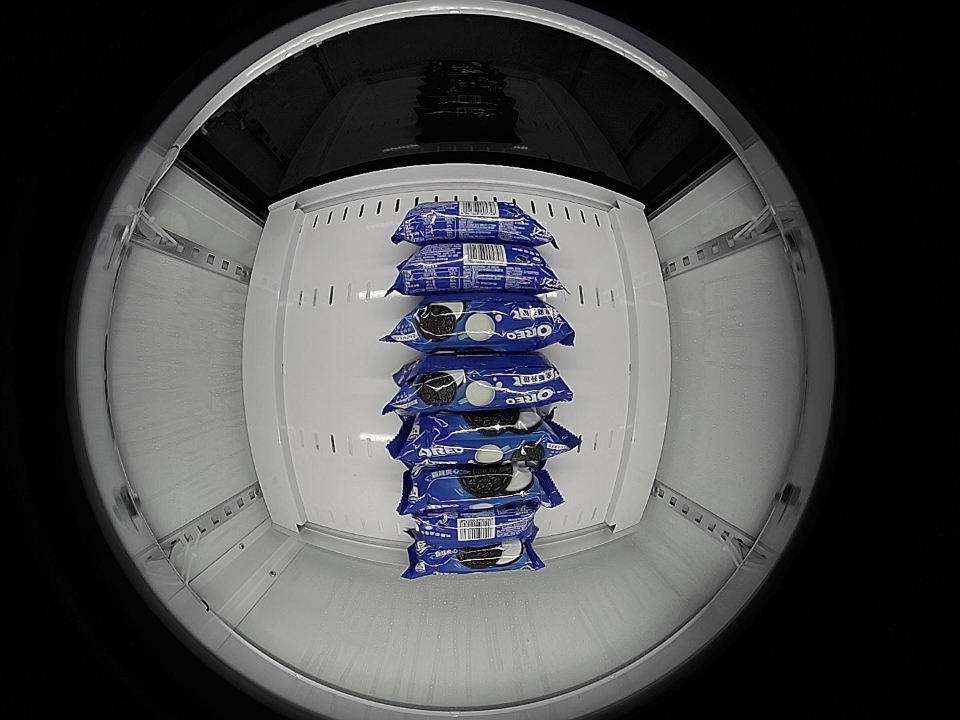aoliao: (390, 353, 573, 411), (398, 296, 575, 352), (398, 411, 569, 468), (392, 244, 562, 295), (390, 194, 554, 246), (398, 469, 562, 517), (405, 536, 544, 577), (399, 512, 550, 537)
